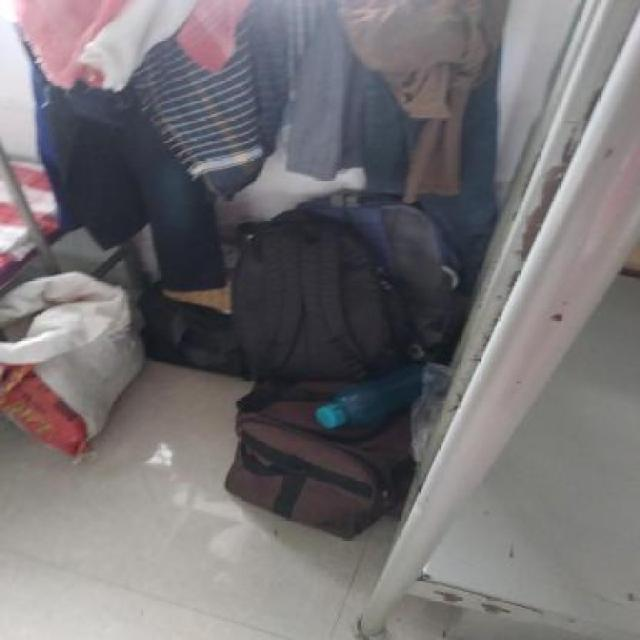backpack: (226, 204, 411, 390)
